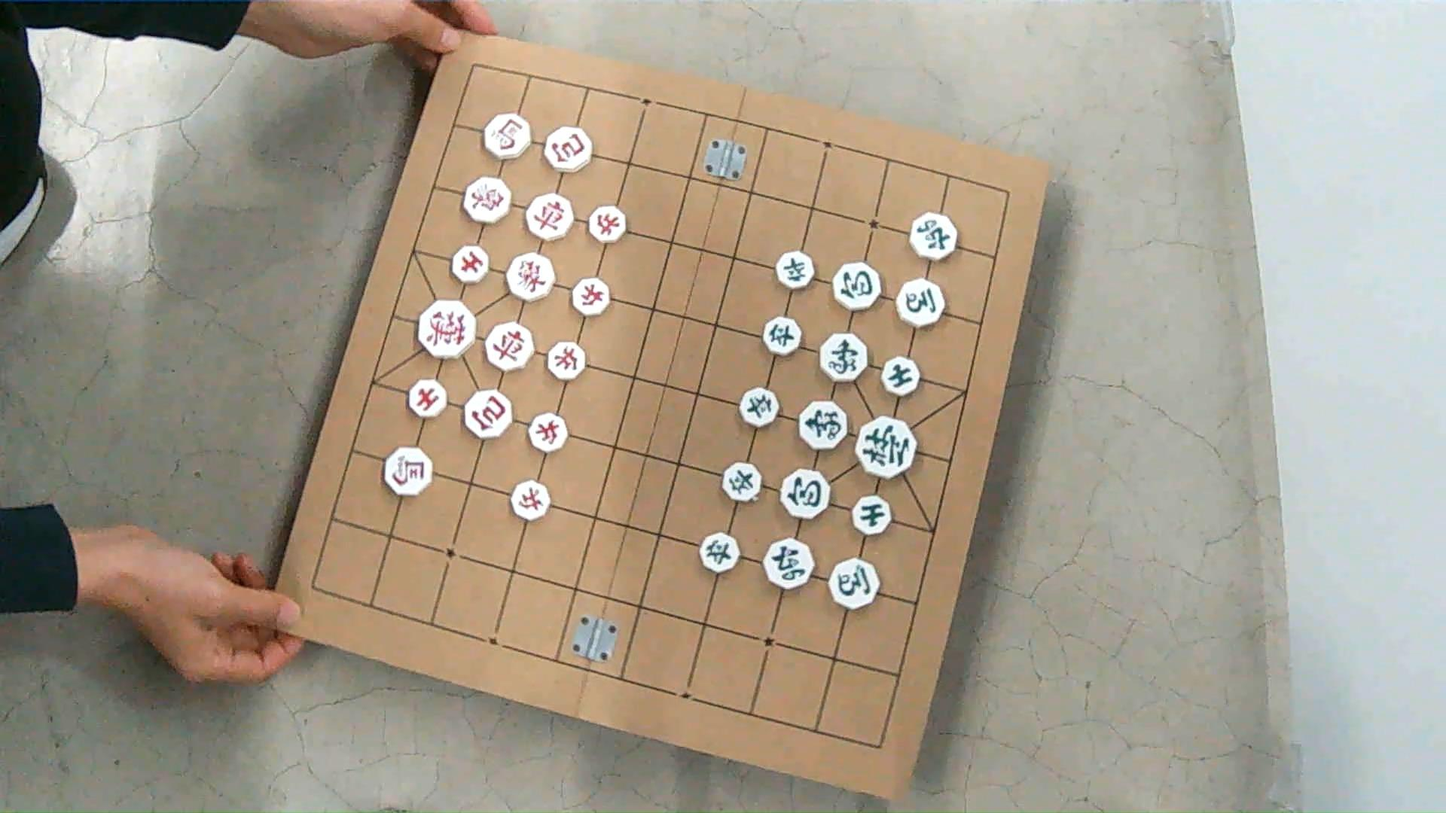cha_green: (764, 539, 813, 589), (910, 212, 956, 260)
cha_red: (485, 323, 532, 370), (526, 194, 573, 240)
jol_green: (721, 462, 761, 501), (699, 533, 738, 572), (739, 388, 778, 427), (763, 316, 801, 355), (775, 251, 813, 289)
jol_red: (510, 480, 549, 520), (529, 413, 567, 452), (572, 278, 610, 315), (589, 206, 626, 243), (547, 342, 584, 379)
ma_green: (829, 559, 878, 609), (897, 279, 944, 327)
ma_red: (383, 448, 431, 495), (484, 114, 530, 160)
po_green: (780, 469, 829, 519), (833, 263, 880, 310)
po_red: (464, 390, 511, 439), (545, 126, 591, 172)
sa_green: (881, 356, 920, 397), (853, 496, 891, 534)
sa_red: (408, 379, 446, 418), (451, 245, 489, 283)
sang_green: (799, 400, 847, 450), (820, 333, 867, 382)
sang_red: (506, 253, 554, 300), (463, 177, 510, 224)
wang_green: (856, 417, 916, 478)
wang_red: (417, 300, 474, 358)
